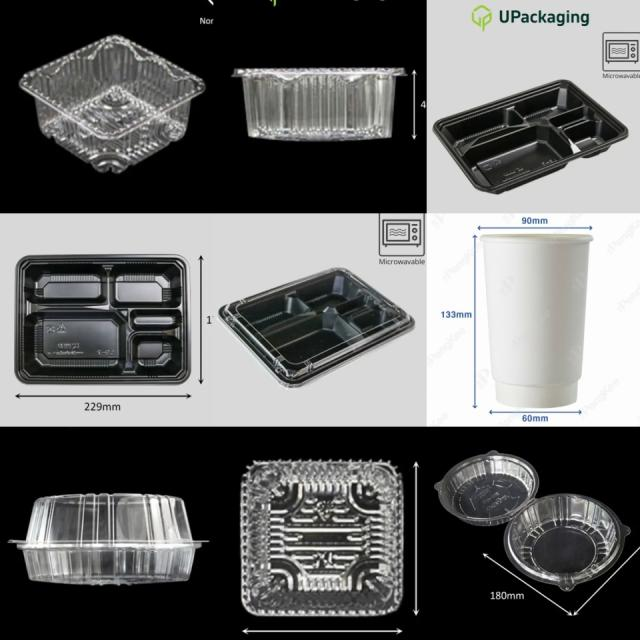Single-Use-Plastic: (19, 35, 205, 172), (241, 461, 402, 616), (219, 269, 414, 386), (434, 80, 629, 193), (16, 255, 188, 381), (480, 234, 592, 407), (11, 494, 201, 585), (232, 68, 405, 141), (504, 494, 630, 591), (435, 451, 539, 526)
